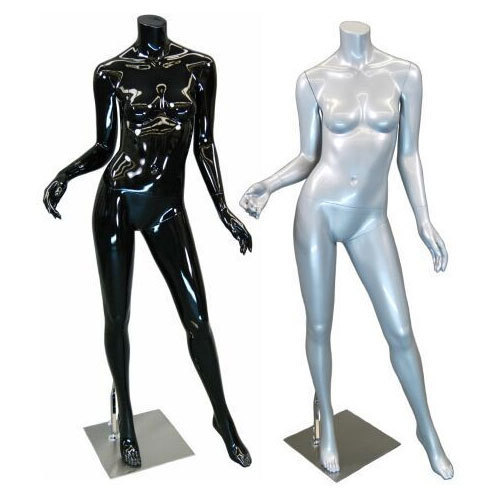person-like: (234, 15, 459, 484), (39, 10, 260, 473)
